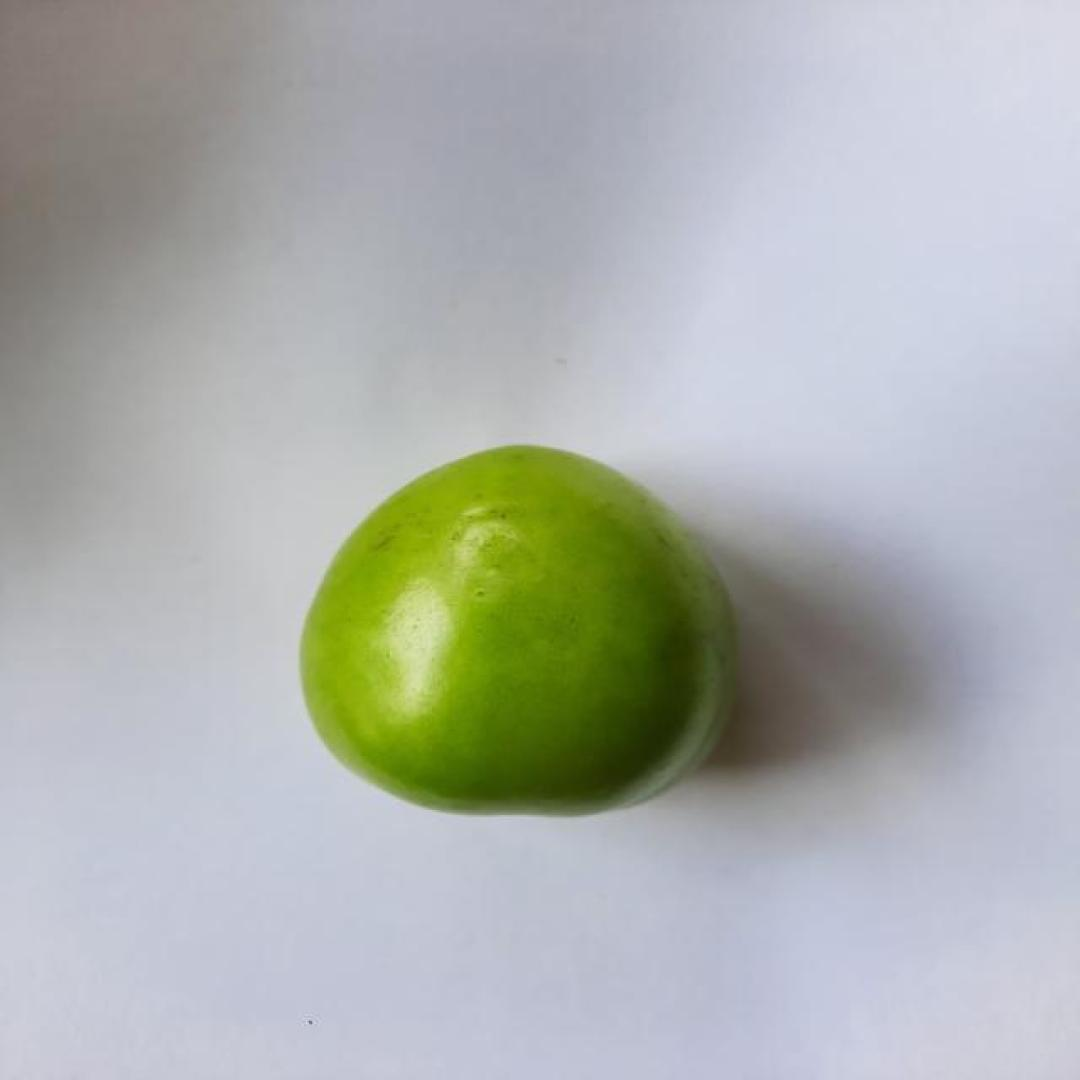mentah: (294, 440, 749, 822)
